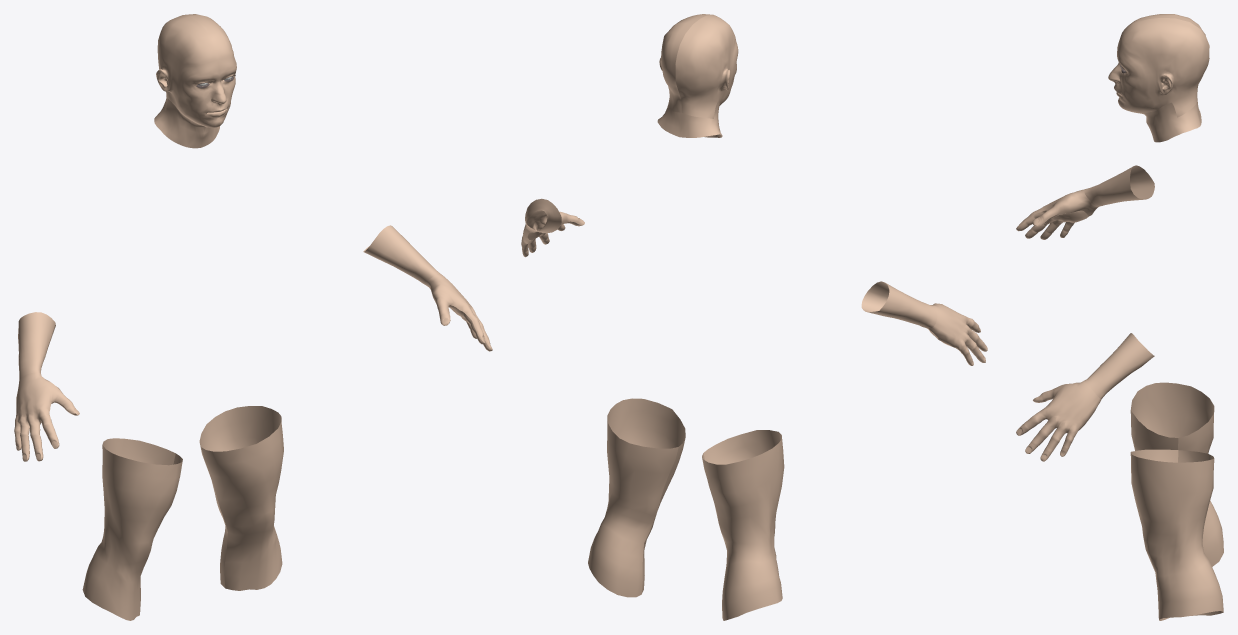
Rendered from body_formal_suit_shoes.glb.
3 views of the same model, side by side, from view 1: azimuth 30°, elevation 25°; view 2: azimuth 150°, elevation 25°; view 3: azimuth 270°, elevation 25° (orthographic). The views are drawn at different scales.
Visible parts, largest first — view 1: Body; view 2: Body; view 3: Body.
Boxes of the visible parts, bbox=[...] form: Body: bbox=[14, 14, 492, 620]; Body: bbox=[521, 14, 987, 620]; Body: bbox=[1016, 14, 1223, 620].
Size of the model in its own units: 1.15 by 1.39 by 0.4539.
